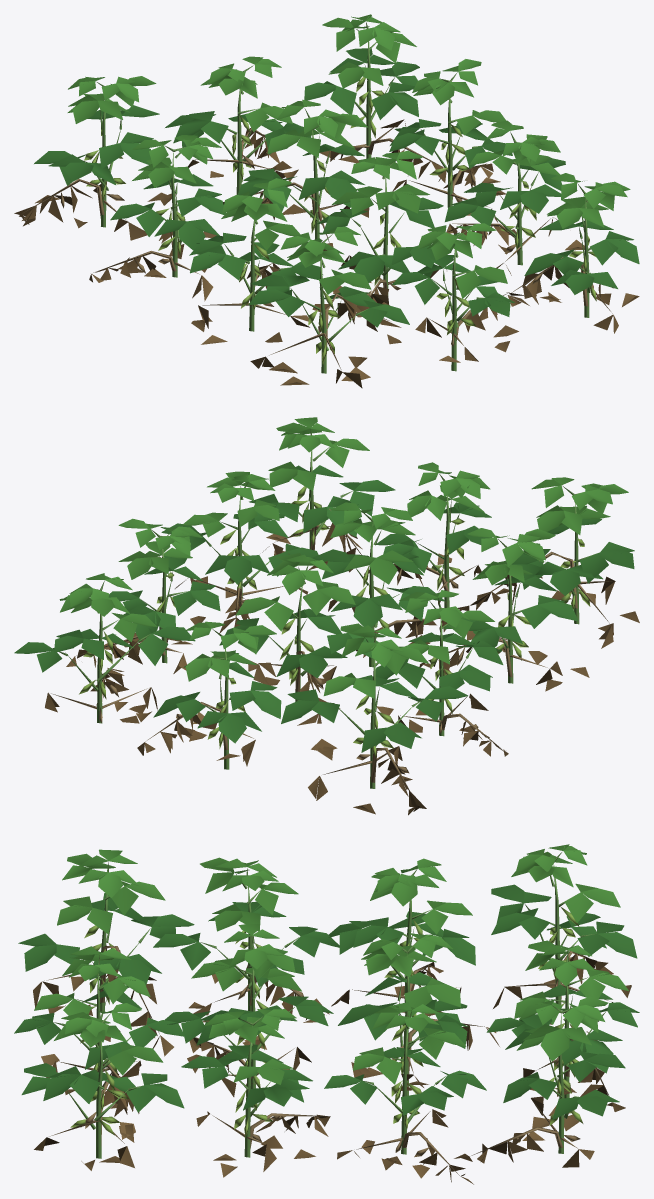
The model's file is crop_soy.glb.
The picture shows the model from 3 angles, top to bottom: view 1: azimuth 30°, elevation 25°; view 2: azimuth 150°, elevation 25°; view 3: azimuth 270°, elevation 25°; orthographic projection. The views are drawn at different scales.
Parts seen in each view (by area): view 1: plants_mesh, plants_dead_mesh; view 2: plants_mesh, plants_dead_mesh; view 3: plants_mesh, plants_dead_mesh.
Boxes of the visible parts, x1,y1,x2,y2 form: plants_mesh: (34,14,639,373); plants_dead_mesh: (14,119,639,388); plants_mesh: (14,417,634,788); plants_dead_mesh: (45,508,639,815); plants_mesh: (14,844,639,1158); plants_dead_mesh: (33,945,631,1184).
Size of the model in its own units: 1.46 by 0.5742 by 1.76.
